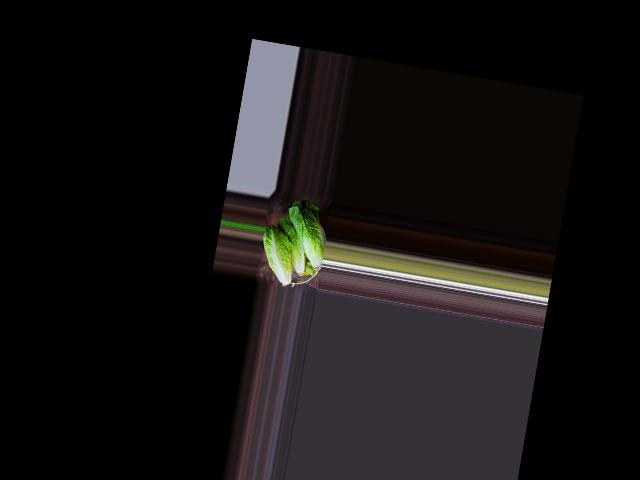lettuce: (277, 198, 332, 276)
